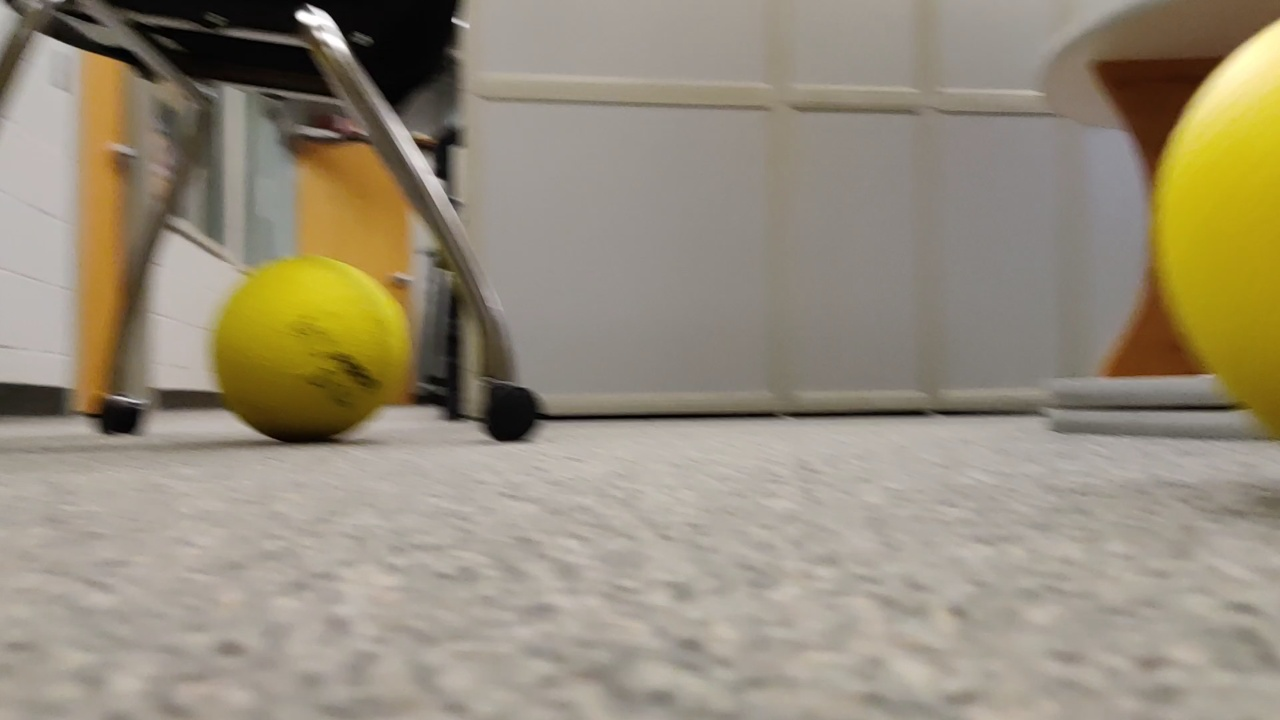Ball: (1146, 21, 1280, 429), (203, 254, 407, 449)
